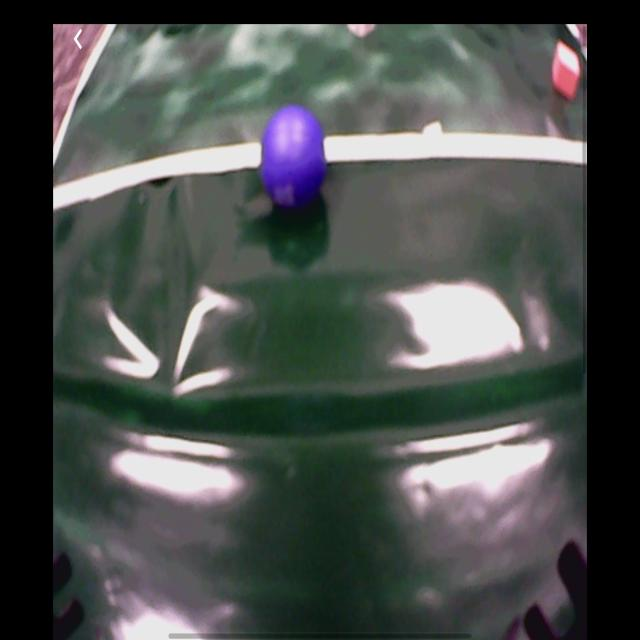ball: (260, 109, 330, 208)
